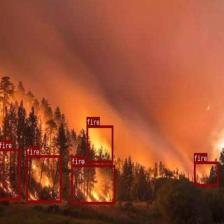fire: (71, 164, 115, 204), (26, 155, 61, 202), (0, 148, 20, 200), (87, 125, 113, 162), (194, 161, 218, 186)
